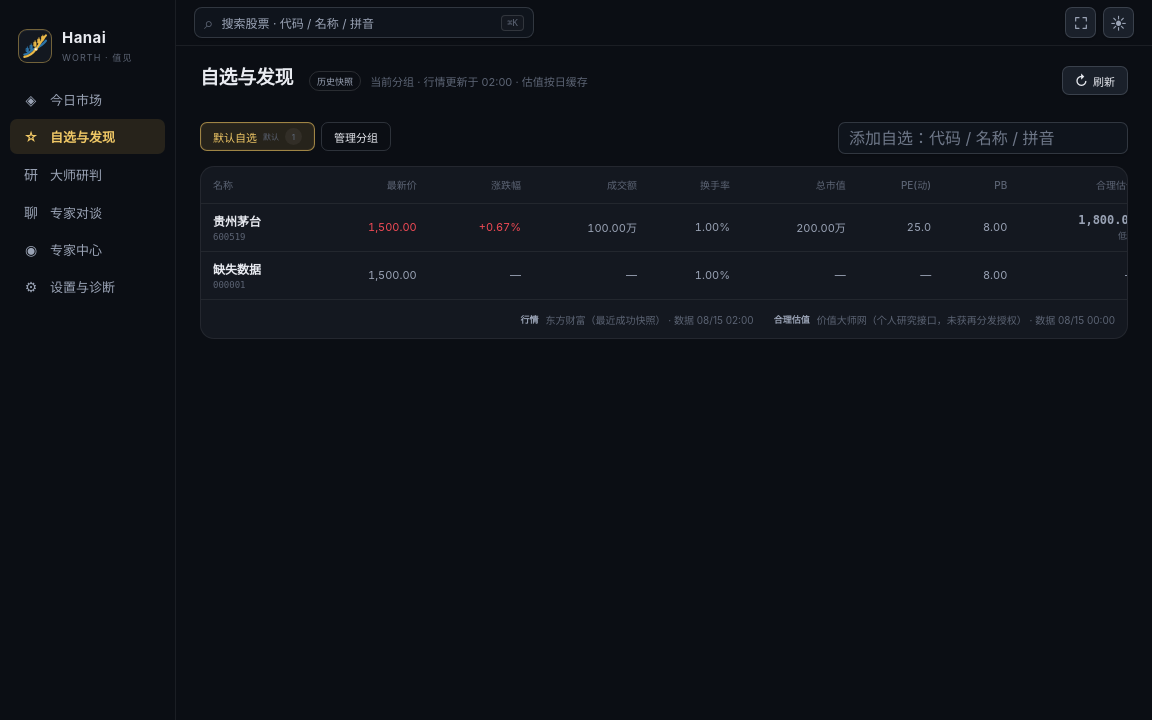
Test case: HanaiWorkbench old-client parity › restores watch columns, default added-date sort, three-state sorting, and group manager
This screenshot has width=1152, height=720.
Expected: the heading "自选与发现" is shown, [200,66,293,90]
Expected: the text "1,800.00" is shown, [1078,212,1127,226]
Step 1. Click the button "涨跌幅" → (506, 185), box [491,177,521,192]
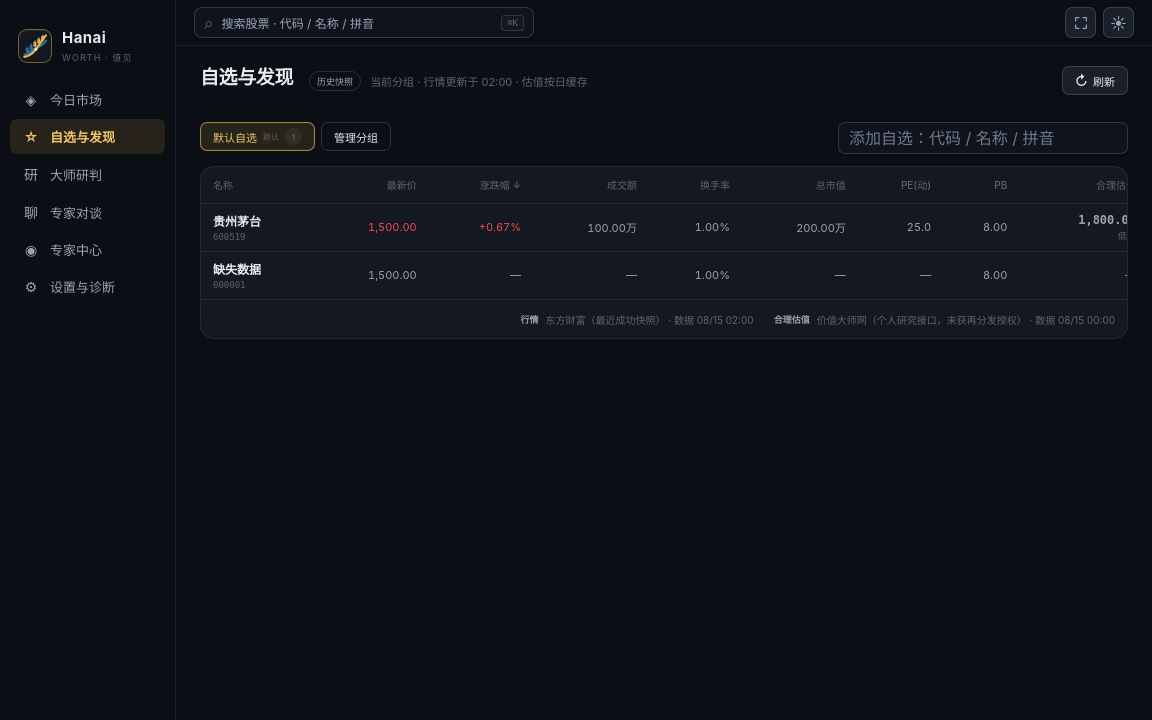
Expected: the column heading "涨跌幅 ↓" has attribute aria-sort="descending", [429,167,533,203]
Step 2. Click the button "涨跌幅 ↓" → (500, 185), box [480,177,521,192]
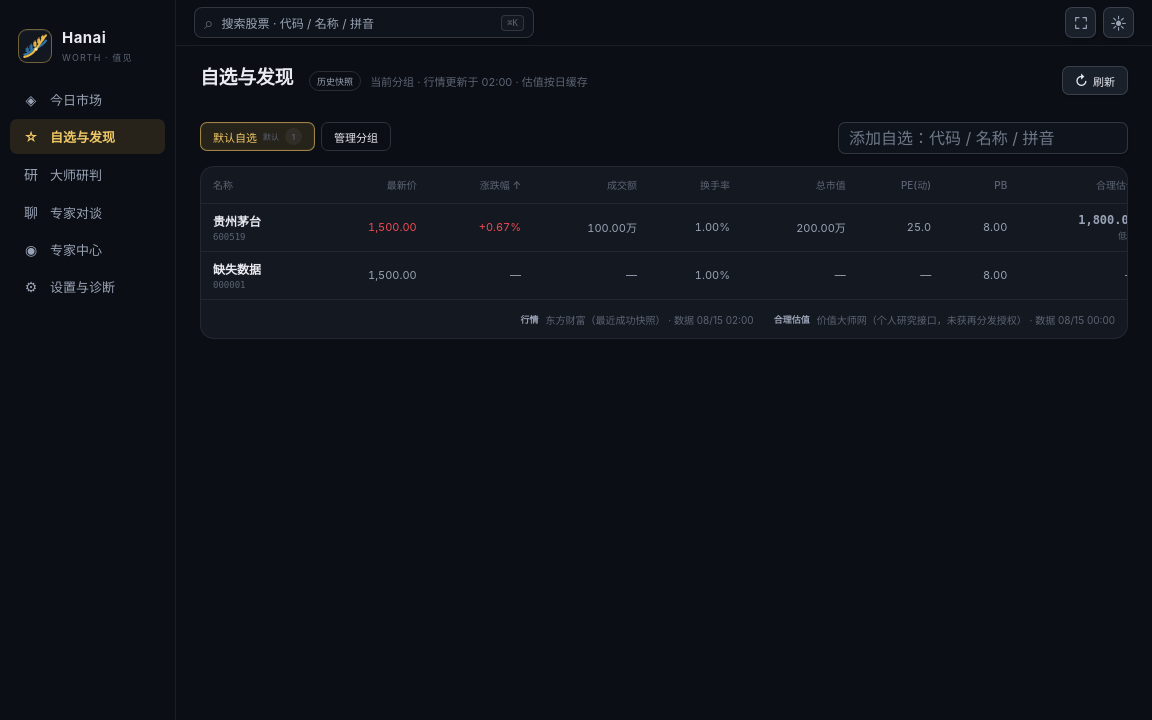
Step 3. Click the button "涨跌幅 ↑" → (500, 185), box [480,177,521,192]
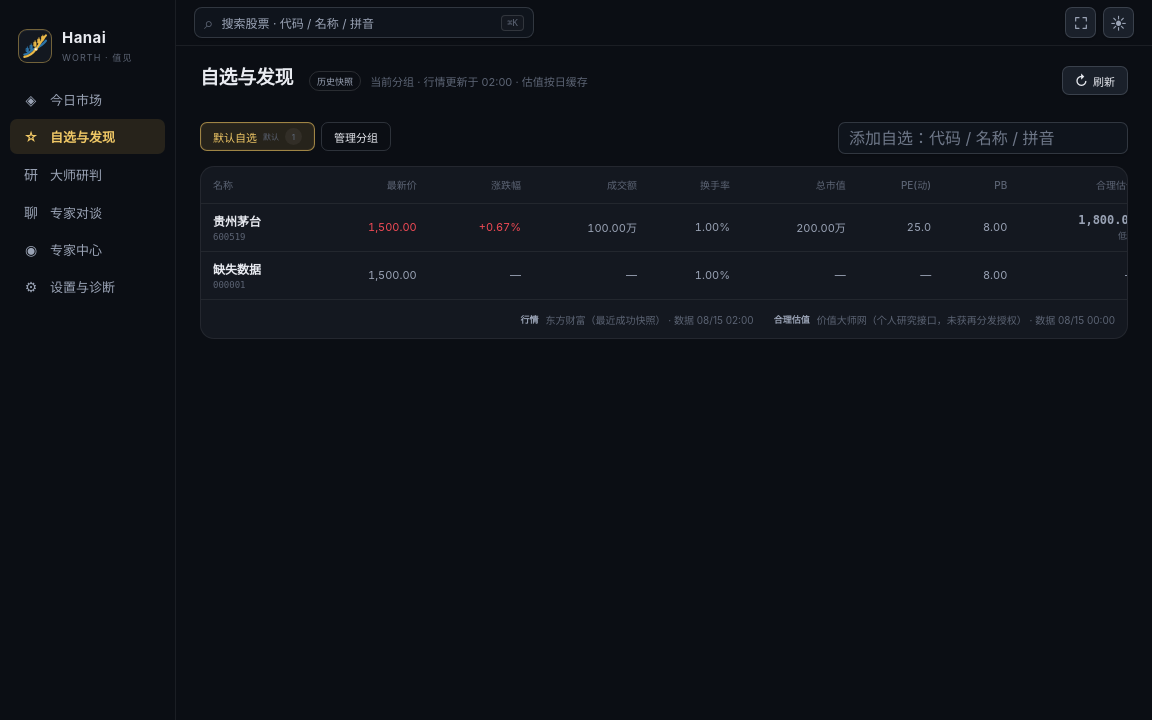
Step 4. Click the button "管理分组" → (356, 136), box [321,122,391,151]
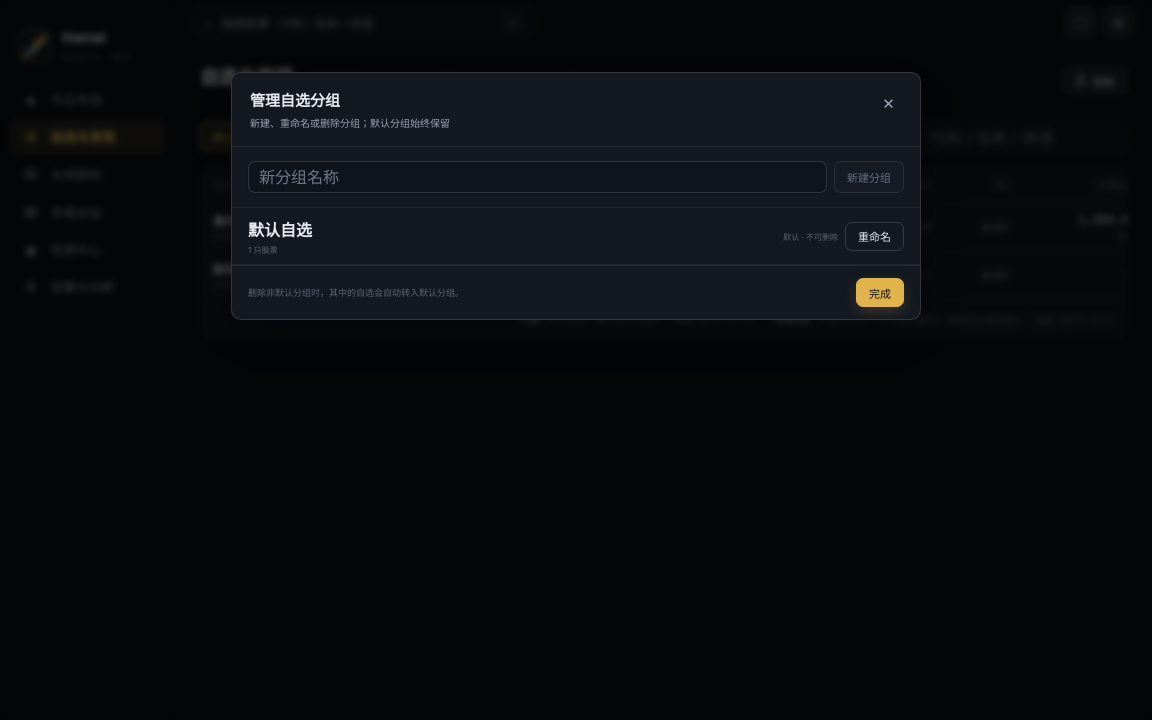
Expected: the dialog "管理自选分组" is shown, [231,72,921,320]
